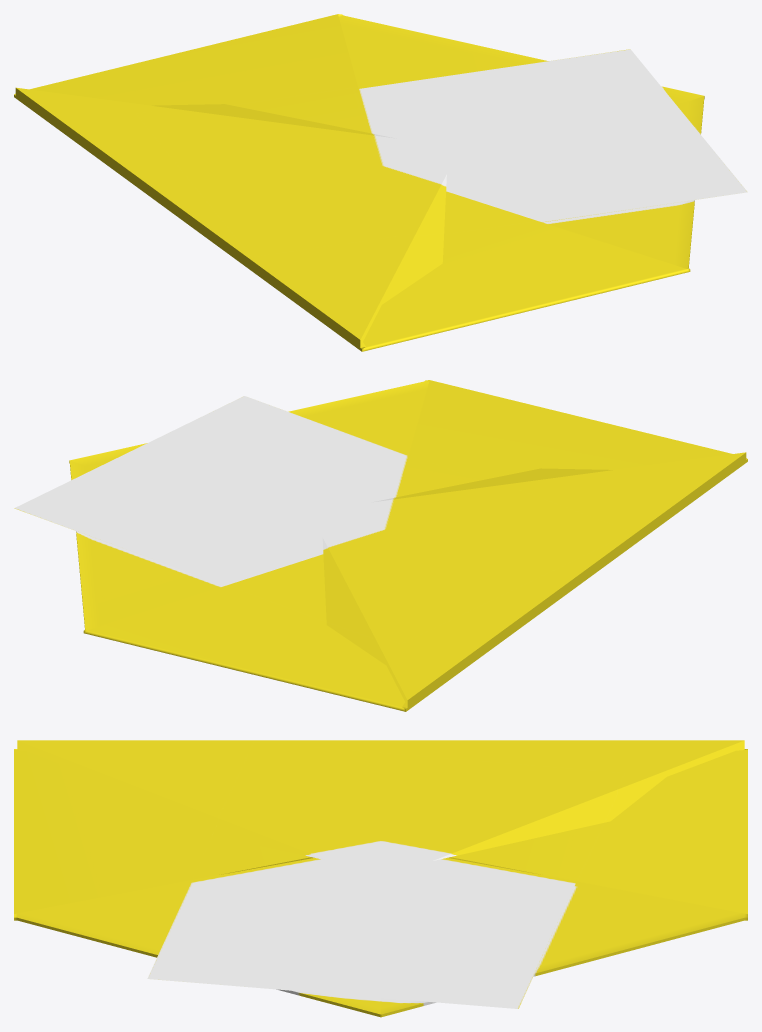
Rendered from envelope.fbx.
3 renders of one model, top to bottom at view 1: azimuth 30°, elevation 25°; view 2: azimuth 150°, elevation 25°; view 3: azimuth 270°, elevation 25°, orthographic. The views are drawn at different scales.
Parts seen in each view (by area): view 1: pCube4; view 2: pCube4; view 3: pCube4.
Boxes of the visible parts, box(x1,y1,x2,y2) form: pCube4: box(14, 14, 747, 351); pCube4: box(14, 380, 747, 711); pCube4: box(14, 740, 747, 1017).
Size of the model in its own units: 12.27 by 0.243 by 14.33.
